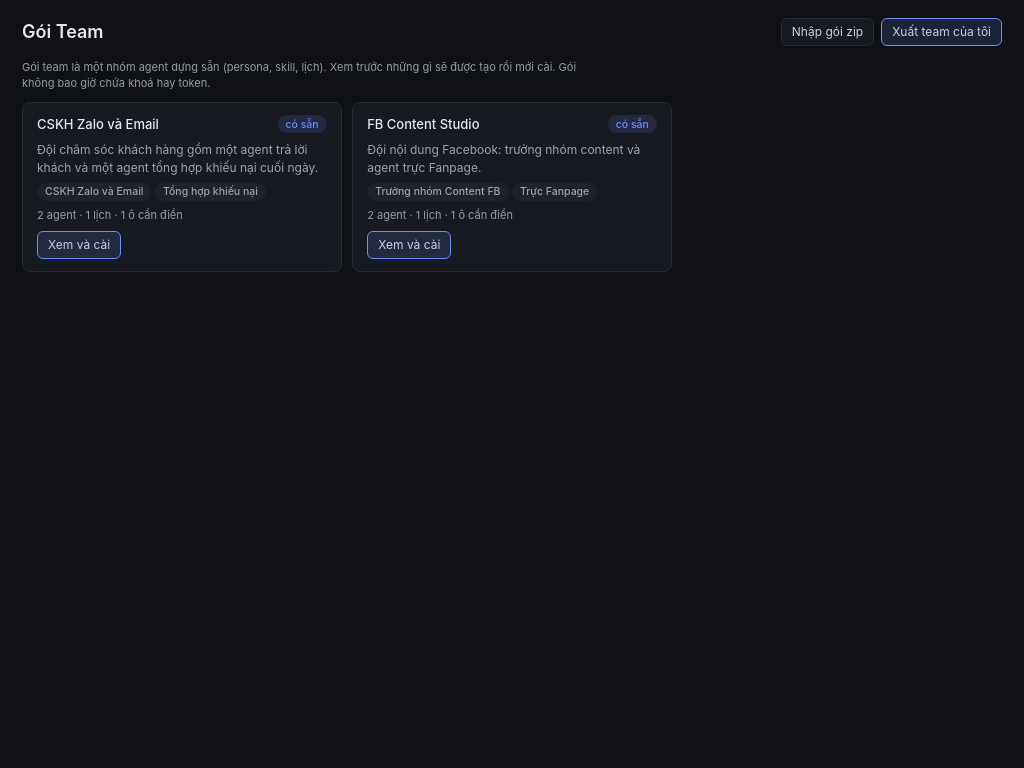
Test case: team screens with the mock api › Gói Team lists packages and previews an install
Step 1. Click the 1st button "Xem và cài" → (79, 245), box left=37, top=231, right=121, bottom=259
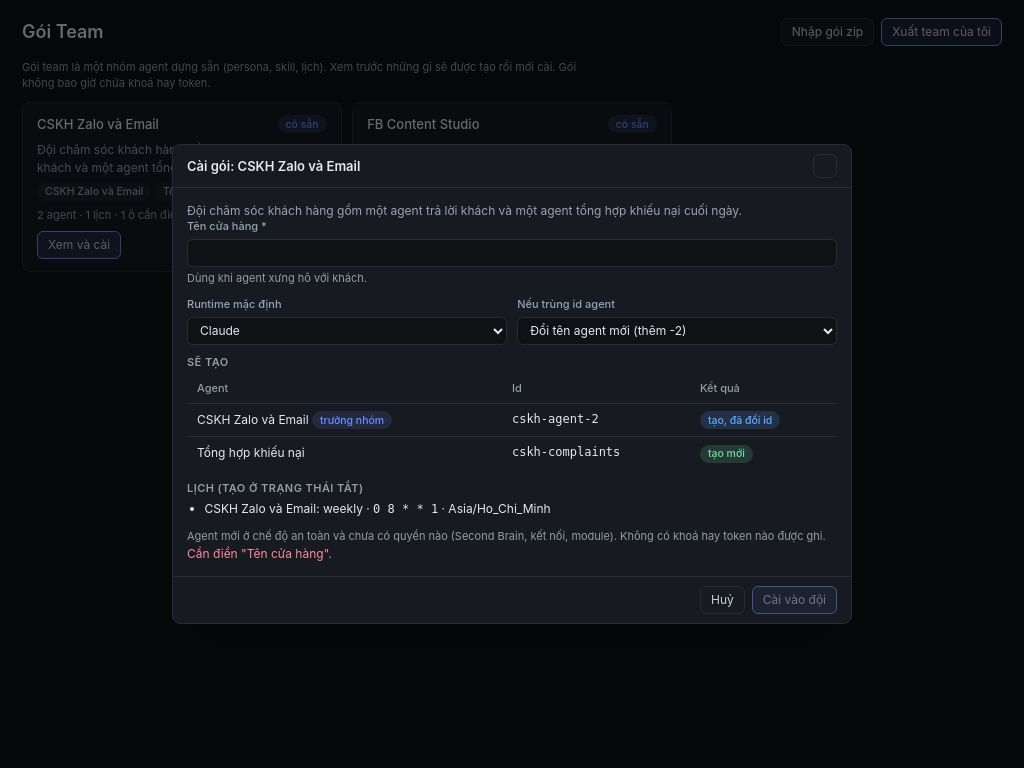
Now the text "Cần điền \"Tên cửa hàng\"" is shown, box left=187, top=546, right=332, bottom=561
Now the text "cskh-agent-2" is shown, box left=502, top=403, right=690, bottom=437
Now the button "Cài vào đội" is disabled, box left=752, top=586, right=837, bottom=614
